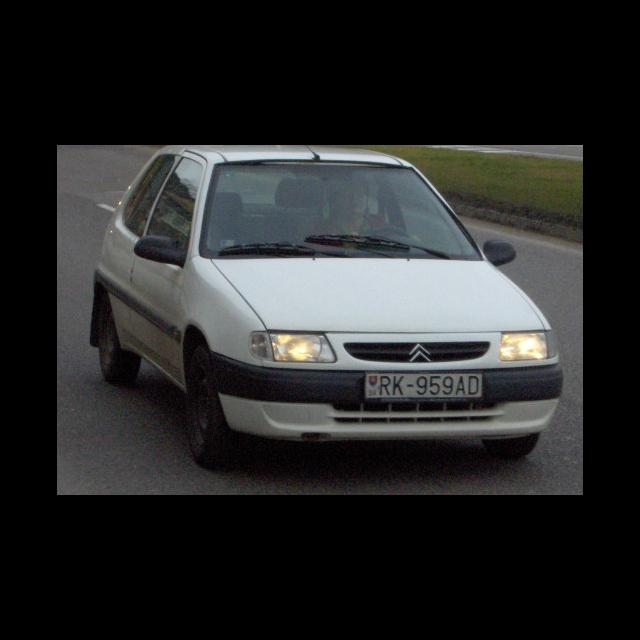Plate: (363, 370, 483, 400)
